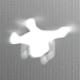plane: (7, 13, 79, 65)
